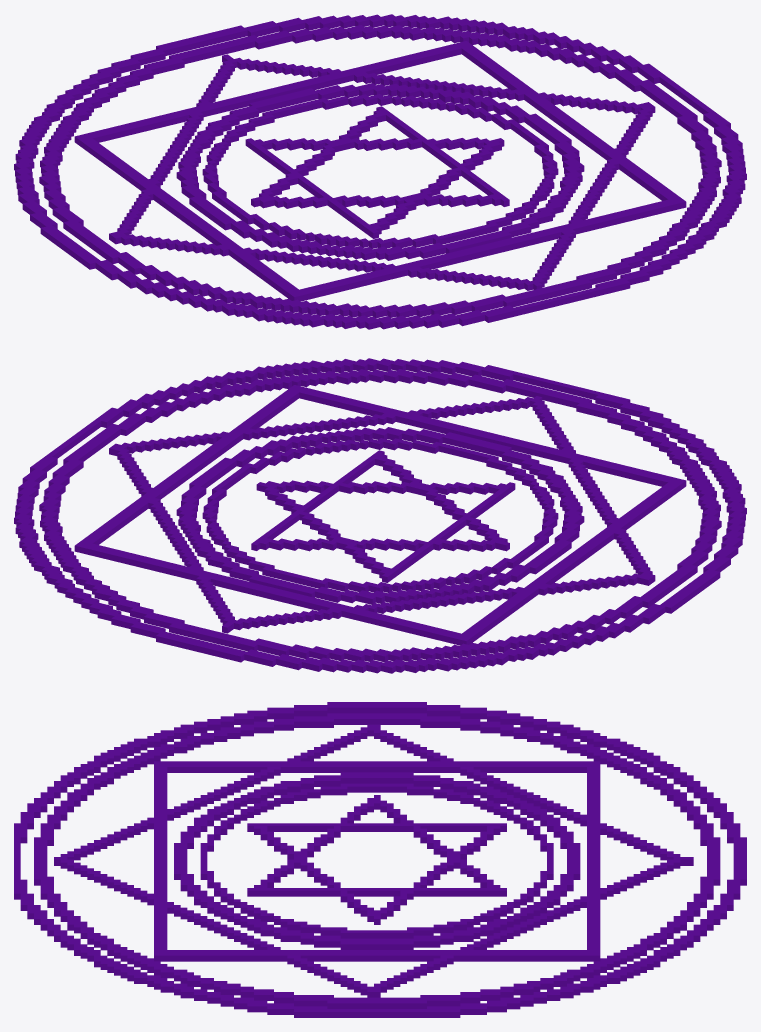
The model's file is 劣质的魔法阵.gltf.
The picture shows the model from 3 angles, top to bottom: view 1: azimuth 30°, elevation 25°; view 2: azimuth 150°, elevation 25°; view 3: azimuth 270°, elevation 25°; orthographic projection.
Parts seen in each view (by area): view 1: Object; view 2: Object; view 3: Object.
Part boxes in pixels (box(x1,y1,x2,y2)): Object: box(14, 14, 746, 329); Object: box(14, 358, 746, 673); Object: box(14, 702, 746, 1017).
Bounding box in the file's own units: 110 × 1 × 110.
Materials: 1 (1 with a texture image).
